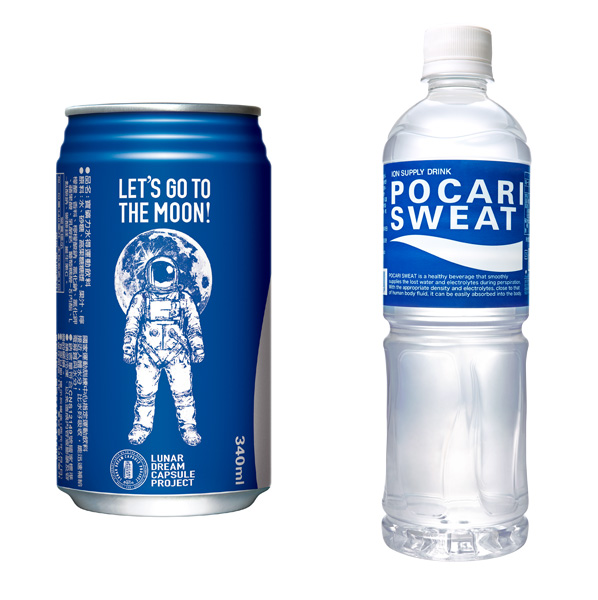POCARI SWEAT: (374, 22, 536, 558)
